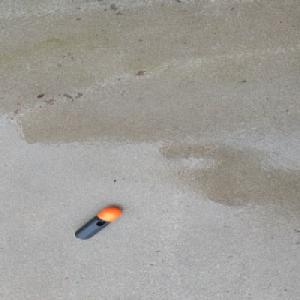PlasticPart: (74, 206, 122, 240)
